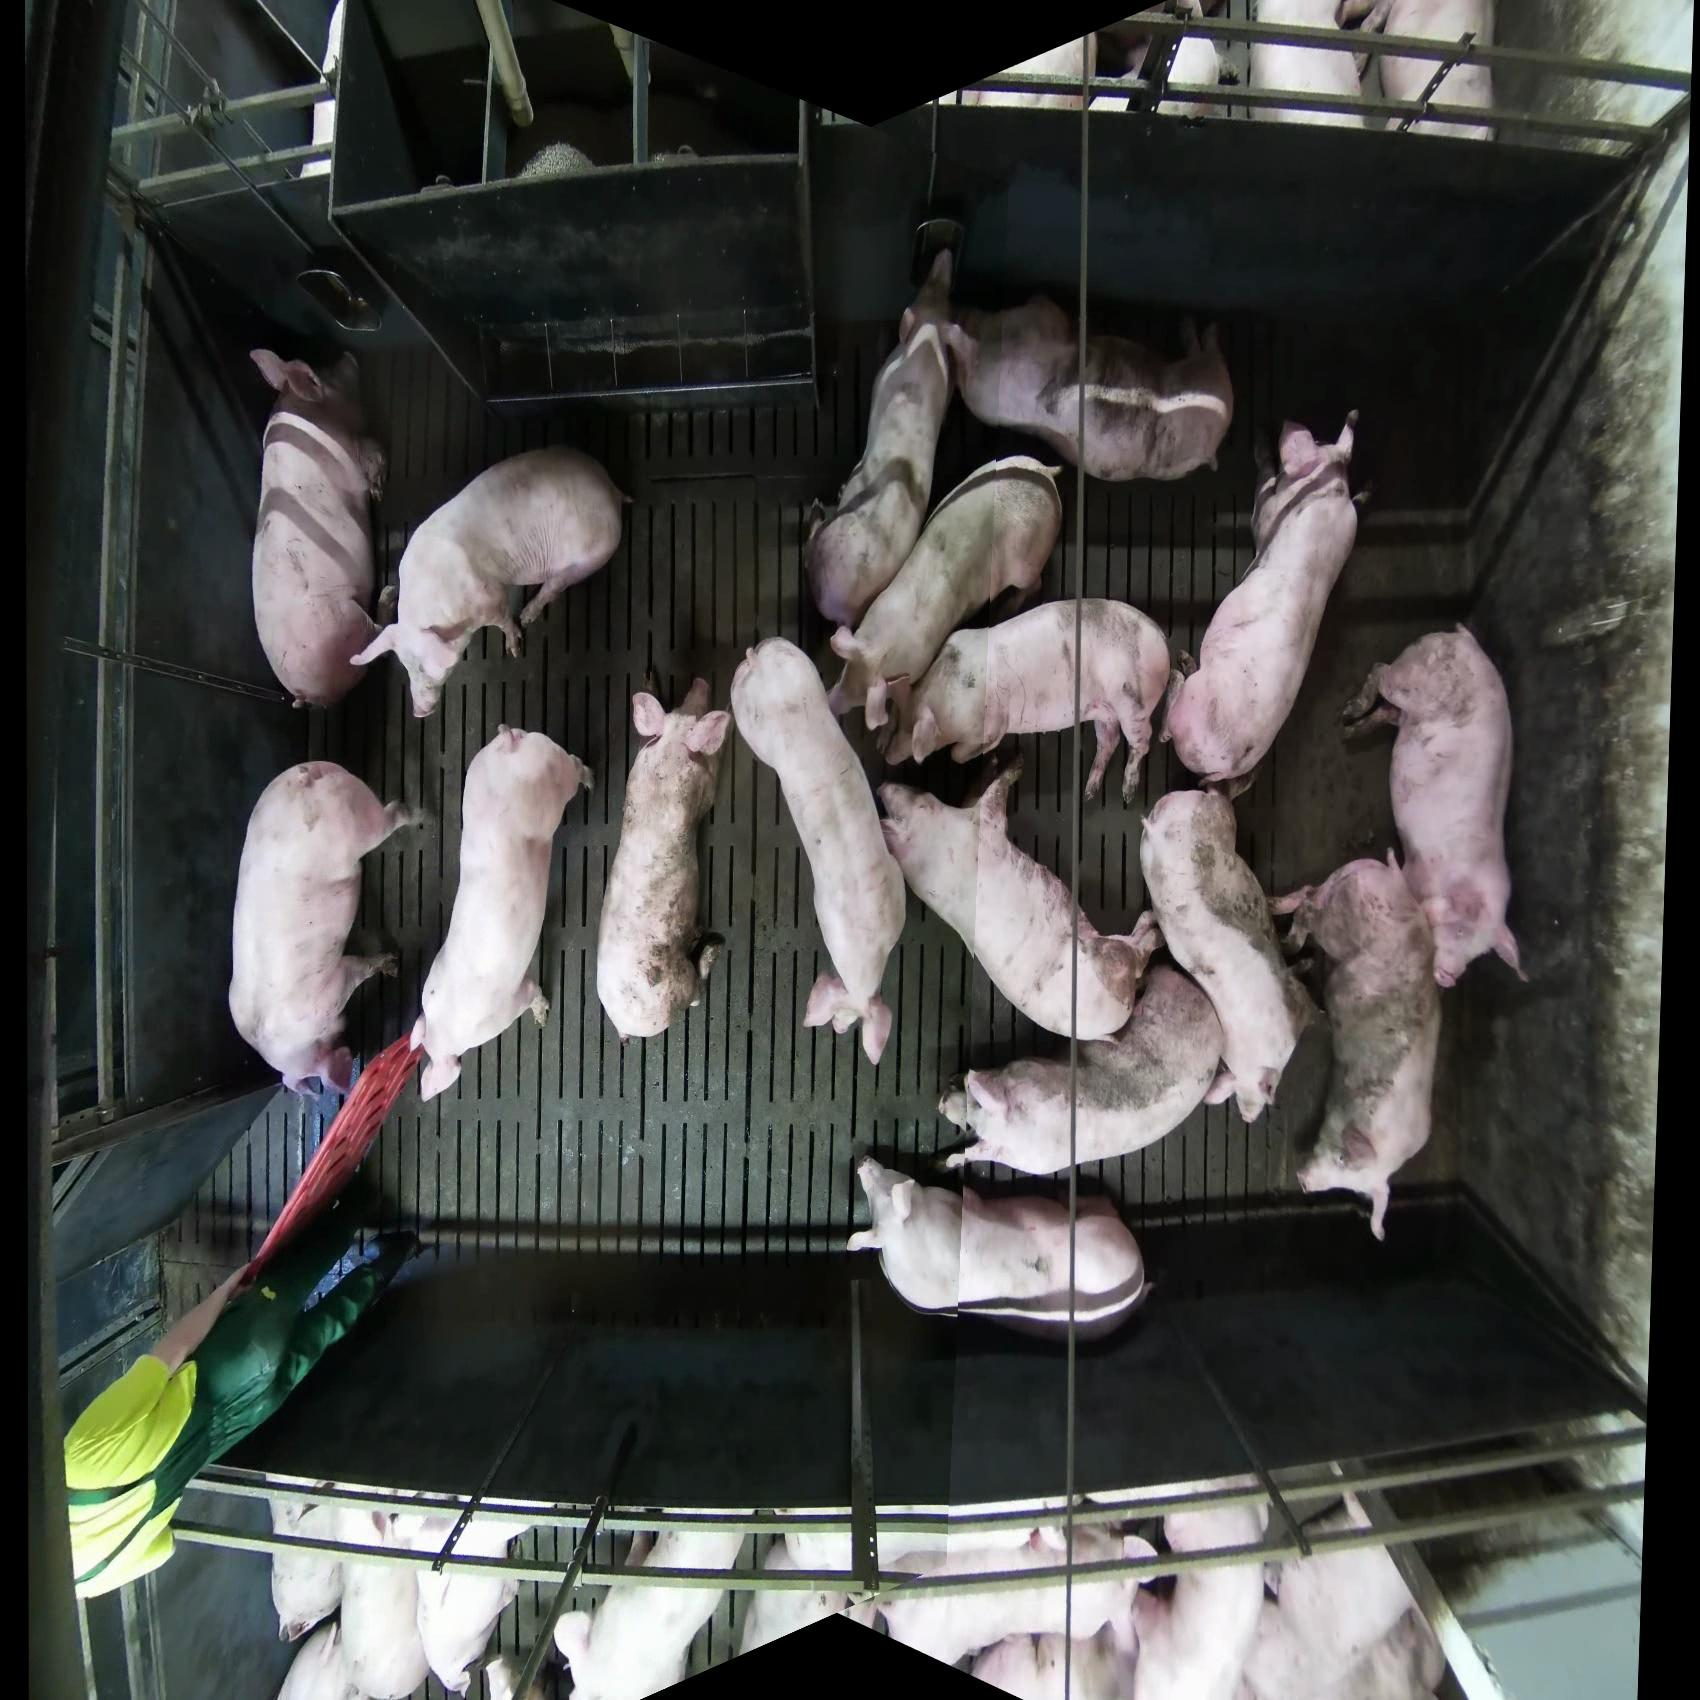pig: (875, 758, 1165, 1045), (1160, 409, 1364, 802), (898, 249, 1236, 483), (350, 443, 633, 721), (728, 636, 909, 1067), (407, 724, 593, 1104), (1338, 622, 1529, 992), (227, 759, 429, 1103), (826, 454, 1065, 735), (1275, 850, 1445, 1243), (937, 960, 1227, 1178), (881, 596, 1174, 809), (1138, 787, 1314, 1126), (846, 1157, 1152, 1342), (268, 1492, 530, 1699), (248, 345, 388, 712), (872, 1522, 1158, 1699), (594, 676, 732, 1043), (803, 320, 953, 634), (1239, 1493, 1448, 1700), (550, 1522, 749, 1699), (954, 2, 1224, 122), (1129, 1495, 1274, 1699), (413, 1510, 529, 1695), (1362, 1, 1499, 142), (338, 1507, 429, 1699), (1247, 1, 1376, 129), (738, 1529, 858, 1659), (1098, 1, 1227, 122)
worker: (62, 1220, 426, 1602)
